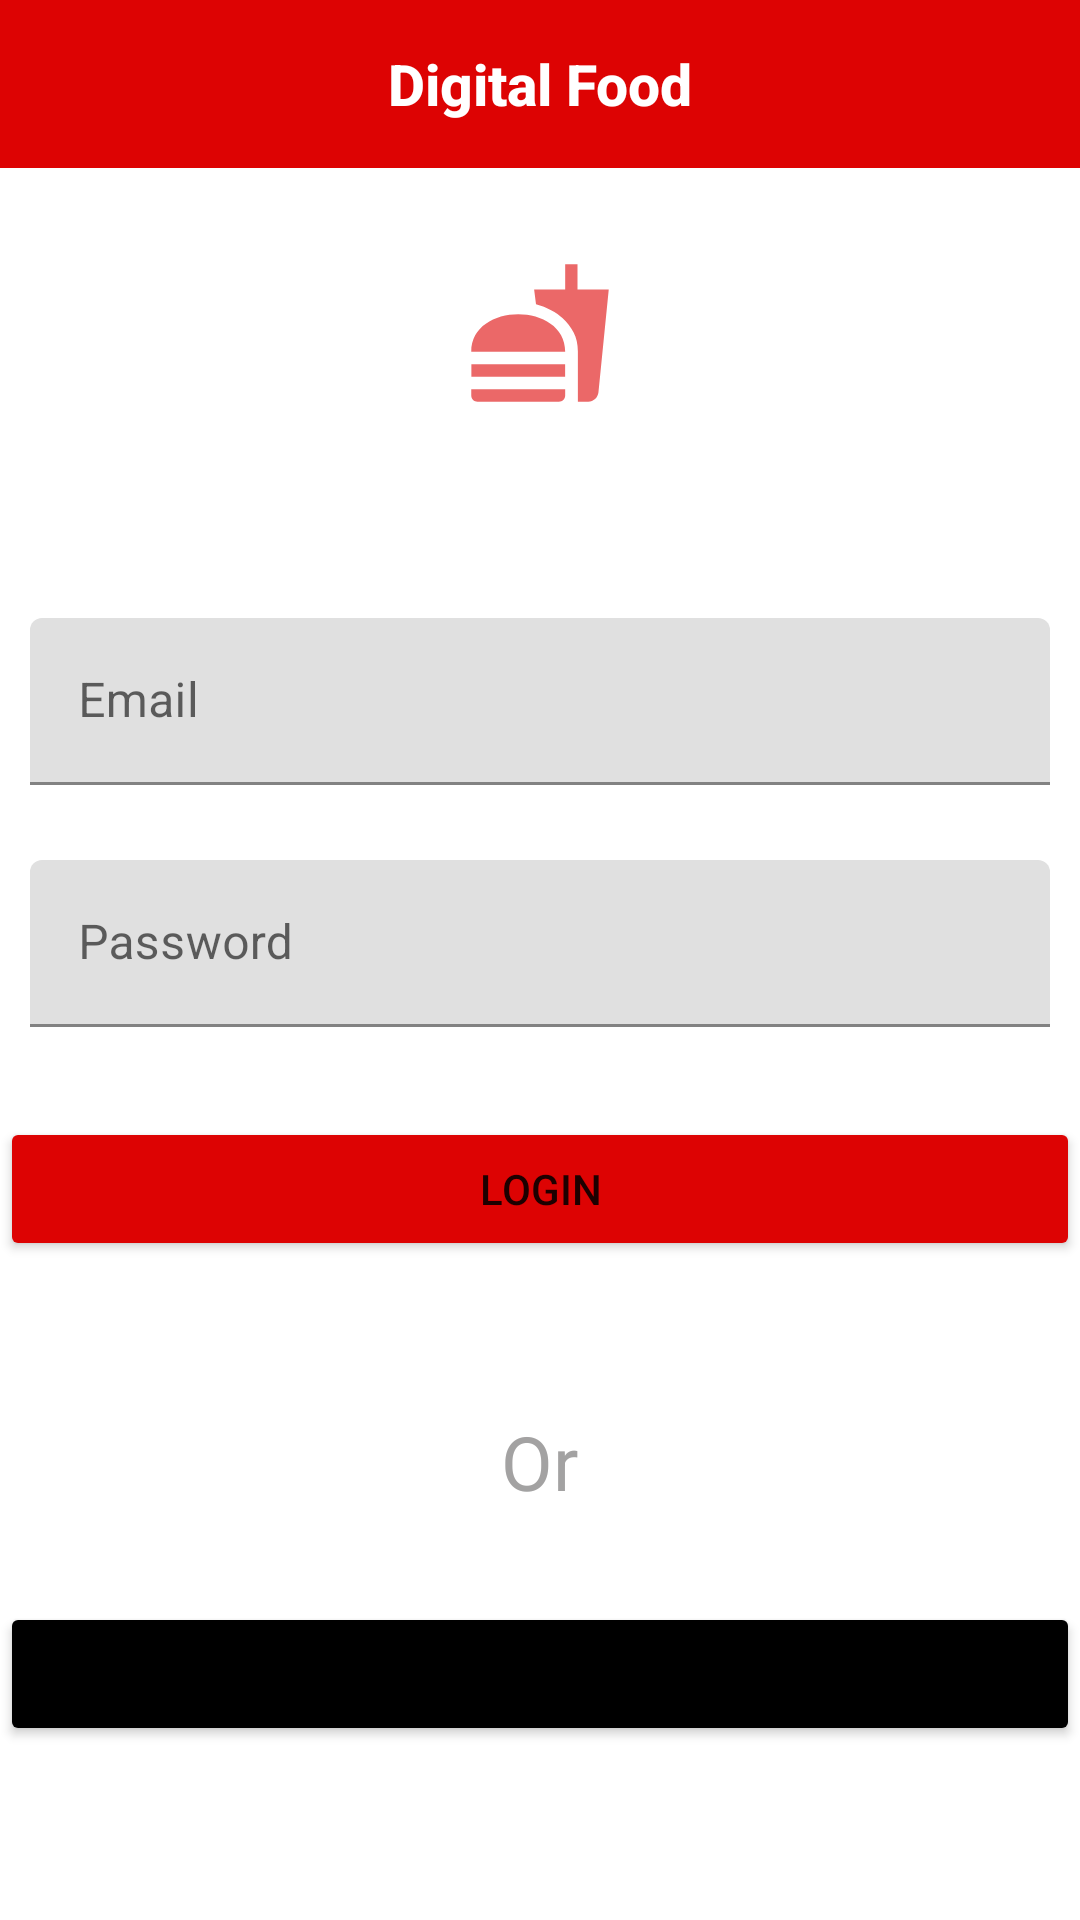

Where icons sit on this 1080*1920 app screen, as [x1, y1, x2, y2]:
fastfood: [471, 264, 609, 402]
